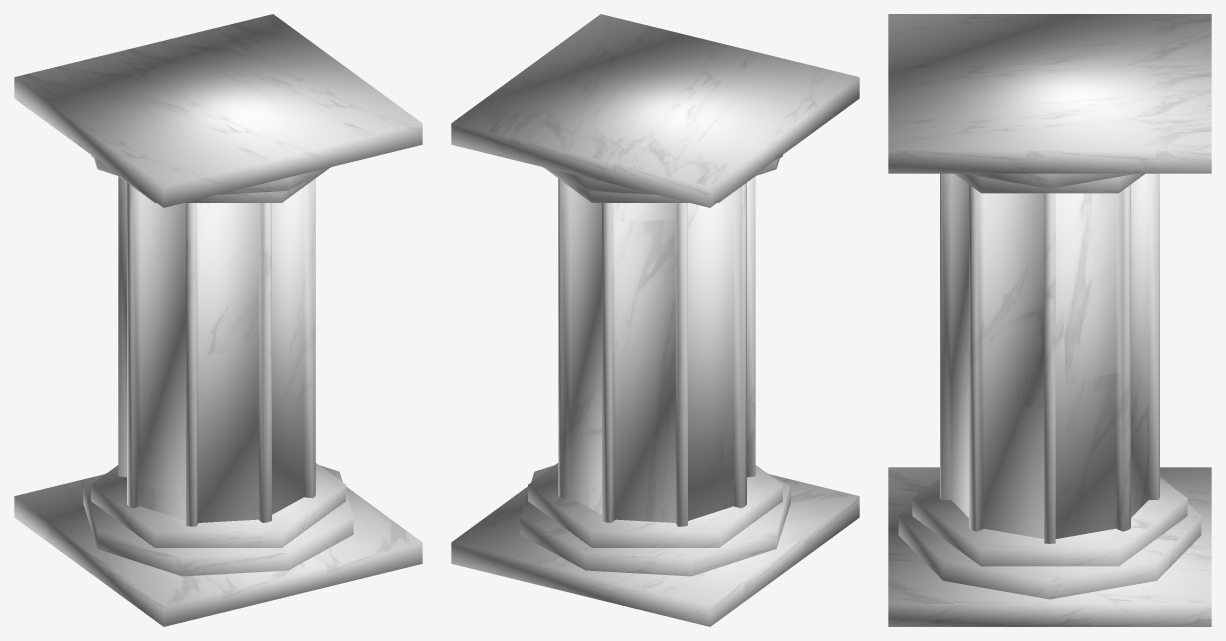
The model's file is GreekPillar2.fbx.
The picture shows the model from 3 angles, left to right: view 1: azimuth 30°, elevation 25°; view 2: azimuth 150°, elevation 25°; view 3: azimuth 270°, elevation 25°; orthographic projection. The views are drawn at different scales.
Parts seen in each view (by area): view 1: Cylinder.001; view 2: Cylinder.001; view 3: Cylinder.001.
Boxes of the visible parts, bbox=[...] form: Cylinder.001: bbox=[14, 14, 422, 626]; Cylinder.001: bbox=[451, 14, 859, 626]; Cylinder.001: bbox=[888, 14, 1211, 626].
Bounding box in the file's own units: 320 × 519 × 320.
